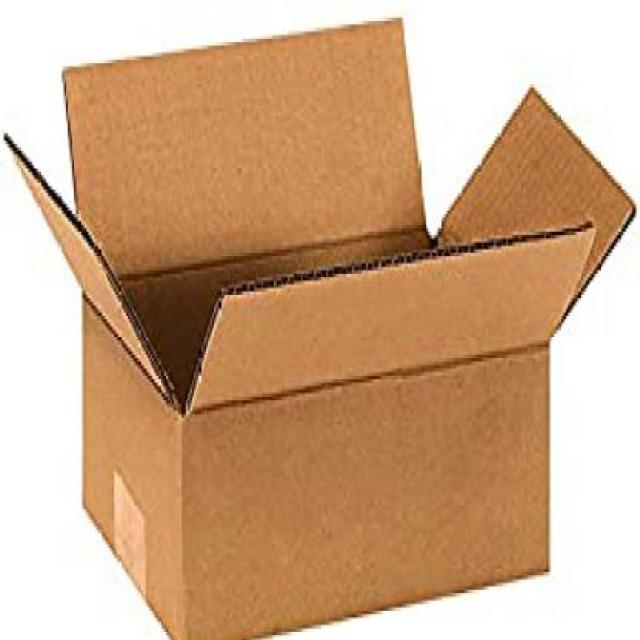box: (4, 14, 637, 640)
